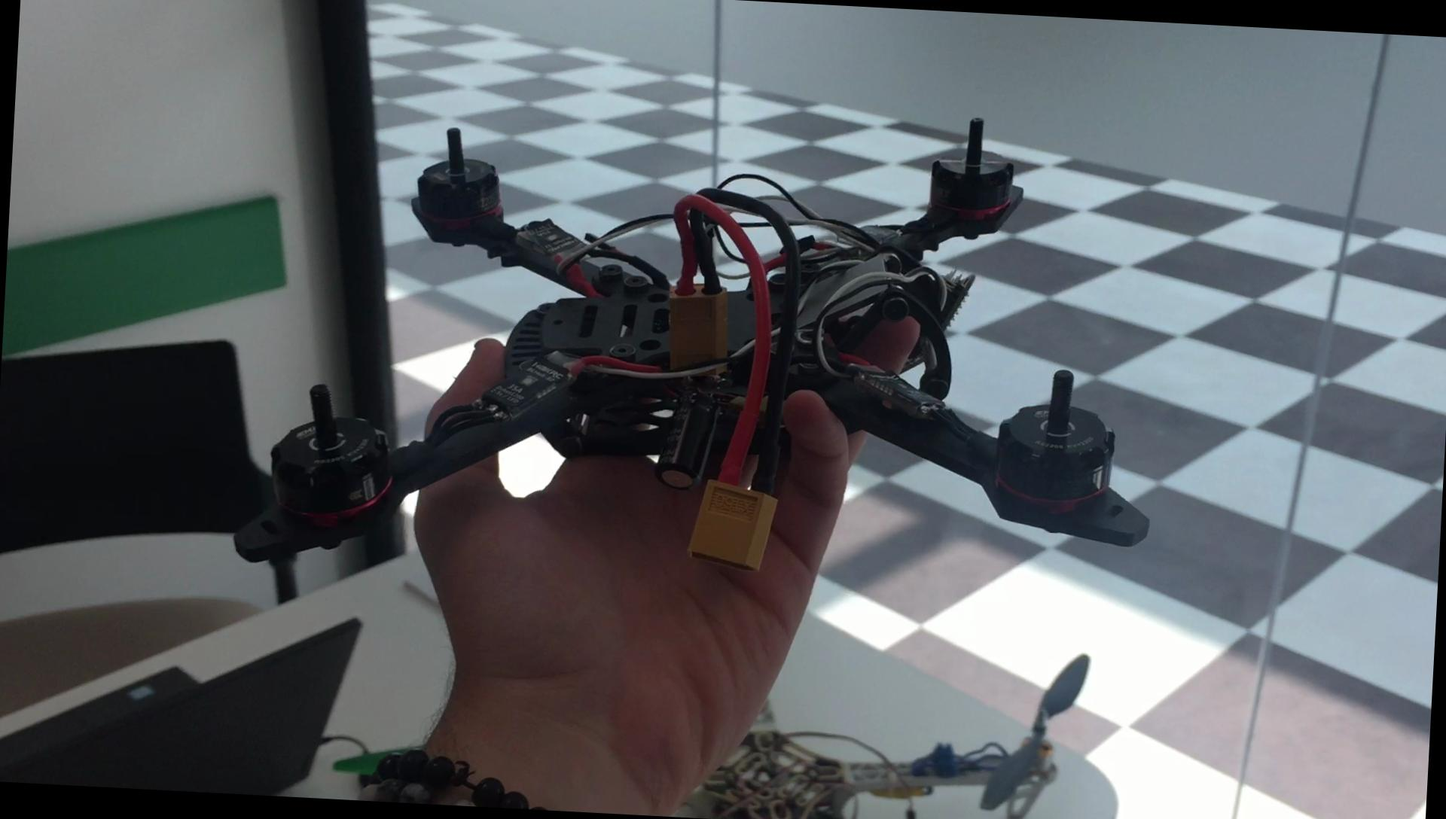drone: (247, 57, 1179, 570)
